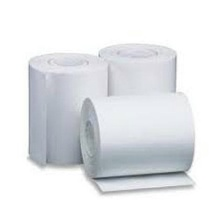tissue: (74, 88, 204, 198), (21, 47, 113, 172), (94, 38, 181, 101)
